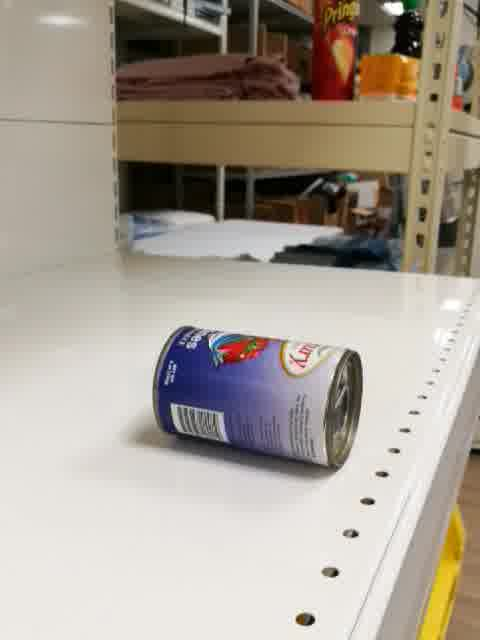sardine: (150, 325, 363, 473)
